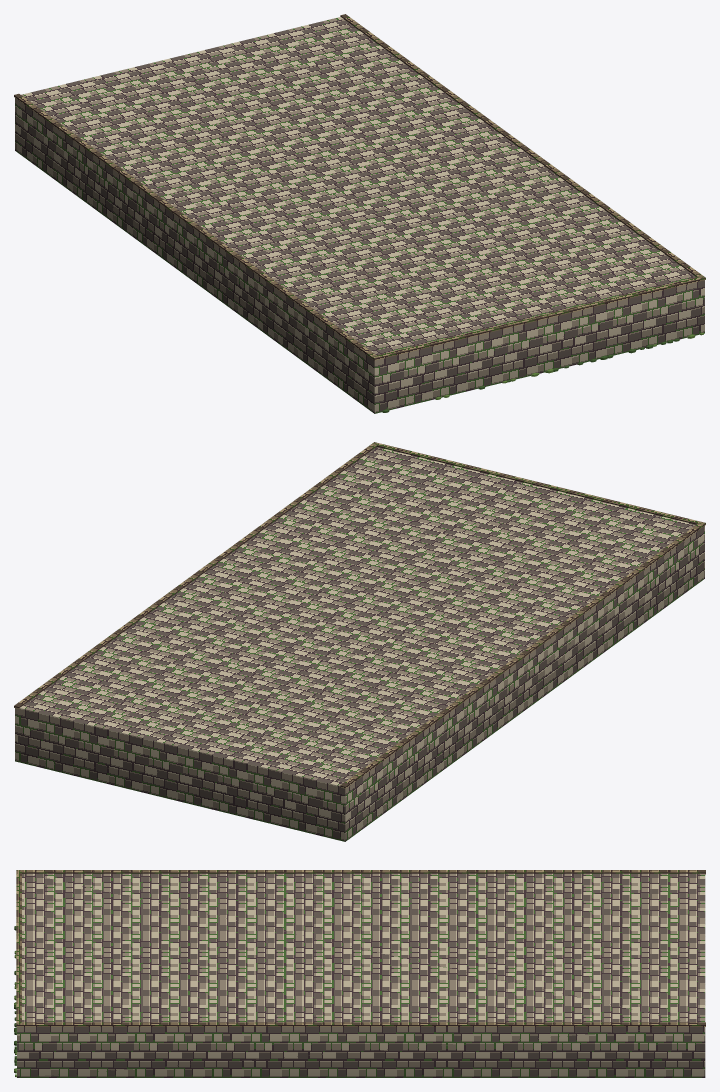
The model's file is scene_wall_e.glb.
The picture shows the model from 3 angles, top to bottom: view 1: azimuth 30°, elevation 25°; view 2: azimuth 150°, elevation 25°; view 3: azimuth 270°, elevation 25°; orthographic projection. The views are drawn at different scales.
Visible parts, largest first — view 1: scene_wall_e; view 2: scene_wall_e; view 3: scene_wall_e.
Boxes of the visible parts, <box> form: scene_wall_e: <box>14,14,705,413</box>; scene_wall_e: <box>14,442,705,841</box>; scene_wall_e: <box>14,870,705,1077</box>.
Size of the model in its own units: 22.9 by 3.77 by 43.24.
Materials: 2 (1 with a texture image).
